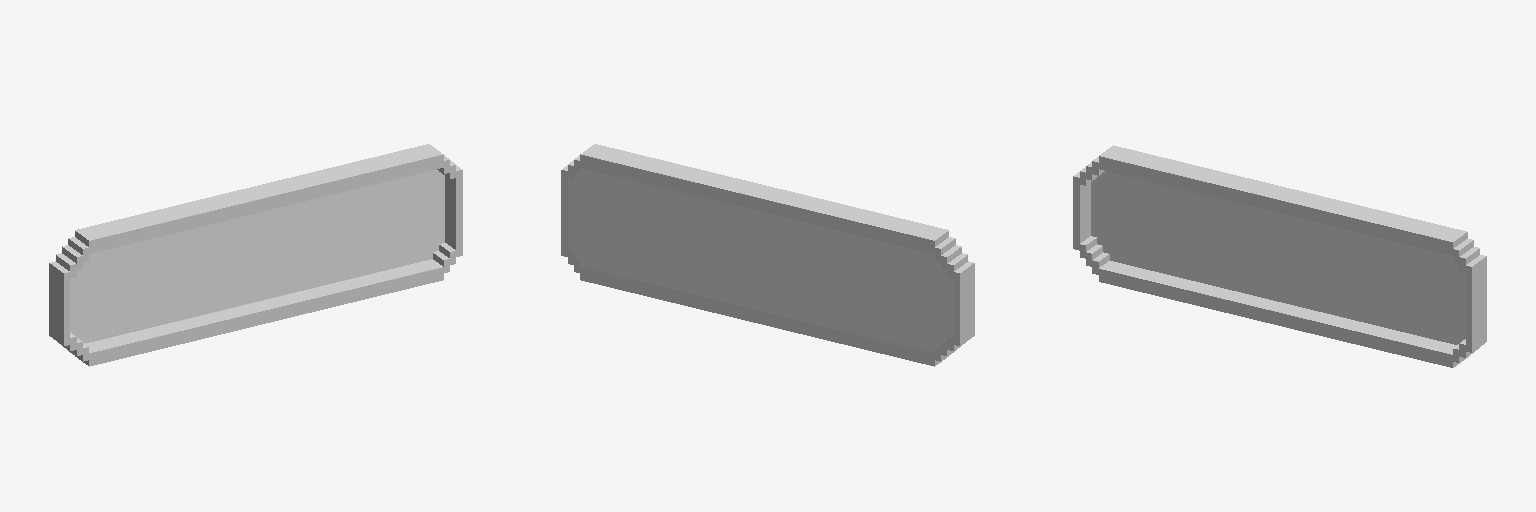
The picture shows the model from 3 angles: view 1: azimuth 30°, elevation 25°; view 2: azimuth 150°, elevation 25°; view 3: azimuth 330°, elevation 25°; orthographic projection.
Visible parts, largest first — view 1: object 1; view 2: object 1; view 3: object 1.
Part boxes in pixels (x1,y1,x2,y2): object 1: (49,144,462,366); object 1: (561,144,974,366); object 1: (1073,145,1486,367).
Size of the model in its own units: 6.3 by 1.9 by 0.4.
Materials: 1 (1 with a texture image).